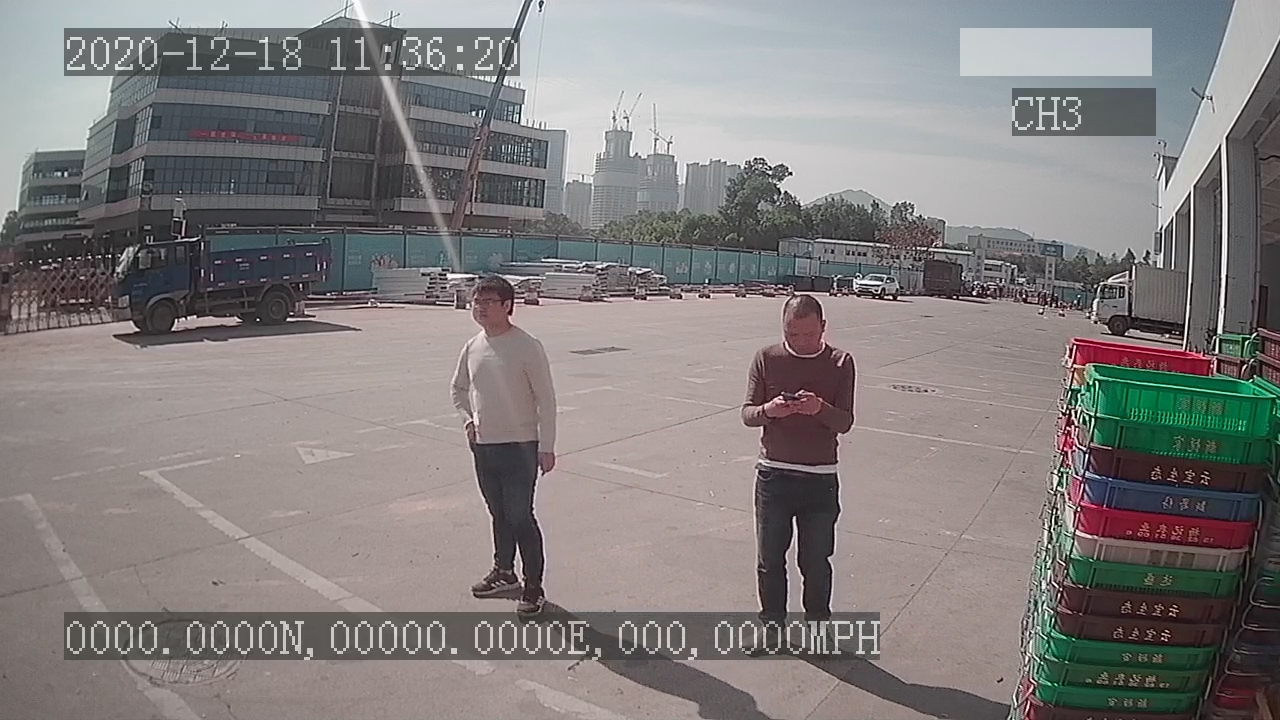person: (451, 277, 561, 612)
